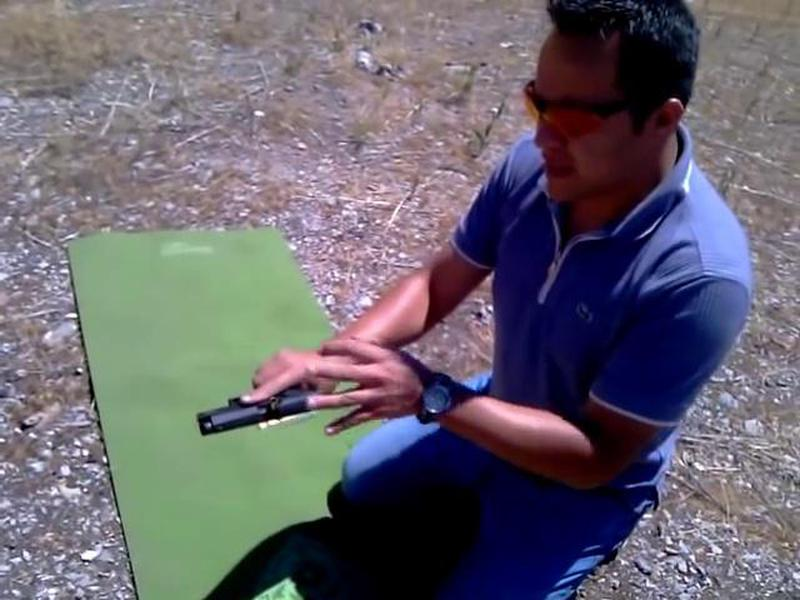Pistola: (176, 365, 336, 456)
